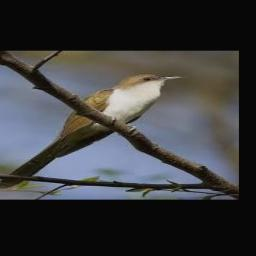Cuckoo: (0, 74, 185, 188)
